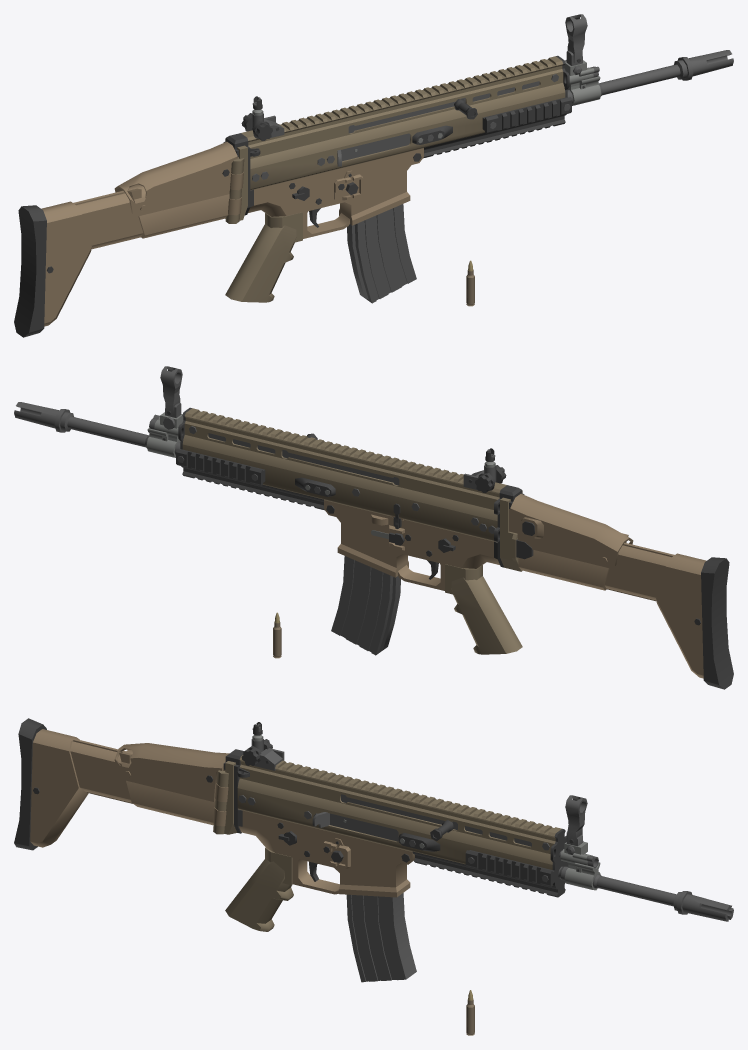
3 views of the same model, one above another, from view 1: azimuth 30°, elevation 25°; view 2: azimuth 150°, elevation 25°; view 3: azimuth 330°, elevation 25° (orthographic).
Parts seen in each view (by area): view 1: object 4, object 2, object 5, SCAR L Mag, object 1, object 3, SCAR L Bolt, SCAR L IronSights, SCAR L IronSights 2; view 2: object 2, object 4, object 5, SCAR L Mag, object 1, object 3, SCAR L IronSights, SCAR L Bolt, SCAR L IronSights 2; view 3: object 4, object 2, object 5, SCAR L Mag, object 1, object 3, SCAR L Bolt, SCAR L IronSights, SCAR L IronSights 2.
Boxes of the visible parts, box(x1,y1,x2,y2) form: object 4: box(41, 141, 423, 326); object 2: box(225, 56, 565, 302); object 5: box(14, 55, 584, 337); SCAR L Mag: box(347, 204, 416, 303); object 1: box(252, 50, 733, 181); object 3: box(354, 60, 601, 151); SCAR L Bolt: box(348, 81, 539, 133); SCAR L IronSights: box(241, 96, 284, 140); SCAR L IronSights 2: box(565, 14, 587, 64); object 2: box(182, 408, 522, 654); object 4: box(324, 493, 706, 678); object 5: box(163, 407, 733, 689); SCAR L Mag: box(331, 556, 400, 655); object 1: box(14, 402, 495, 533); object 3: box(146, 412, 388, 539); SCAR L IronSights: box(463, 448, 506, 492); SCAR L Bolt: box(208, 433, 399, 485); SCAR L IronSights 2: box(160, 366, 182, 416); object 4: box(30, 729, 414, 897); object 2: box(213, 755, 561, 931); object 5: box(14, 718, 579, 897); SCAR L Mag: box(346, 893, 416, 982); object 1: box(238, 795, 733, 921); object 3: box(343, 819, 600, 890); SCAR L Bolt: box(341, 794, 531, 846); SCAR L IronSights: box(241, 722, 284, 770); SCAR L IronSights 2: box(565, 795, 587, 845).
Size of the model in its own units: 1035 by 367 by 75.18.
